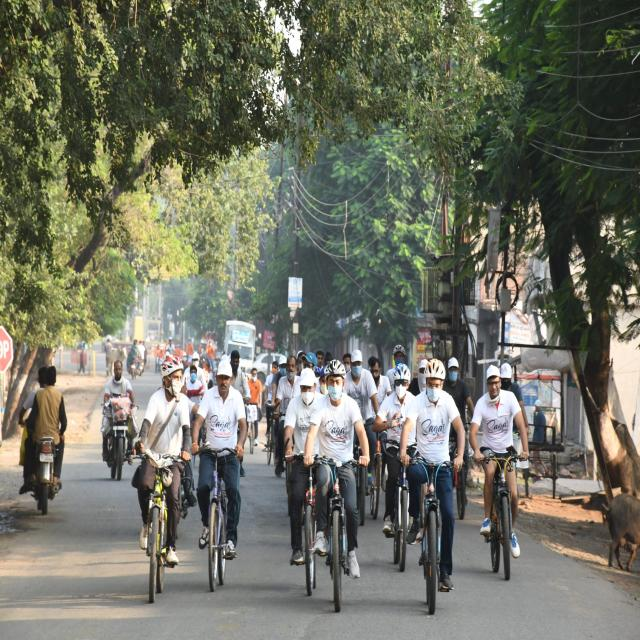bicycle: (304, 360, 370, 610), (400, 360, 465, 612), (135, 356, 190, 602), (191, 360, 248, 590), (470, 366, 529, 578), (372, 364, 414, 572), (284, 367, 319, 593)
motorcycle: (19, 366, 68, 516), (101, 360, 138, 480)
